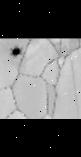good_void: (9, 45, 22, 58)
